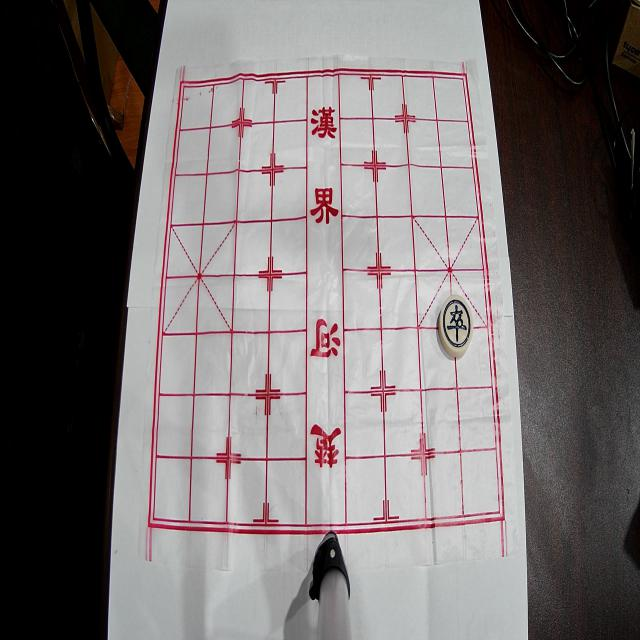black-soldier: (438, 294, 474, 358)
